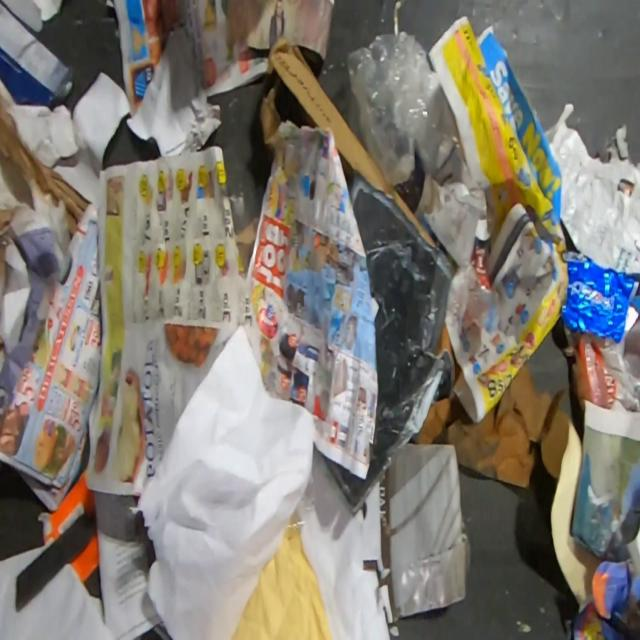cardboard: (258, 35, 437, 247), (406, 317, 570, 488), (0, 0, 76, 106)
metal: (561, 250, 640, 344)
rigid_plastic: (282, 470, 318, 536)
soft_plastic: (344, 28, 443, 188), (579, 316, 640, 413), (228, 183, 264, 276)
